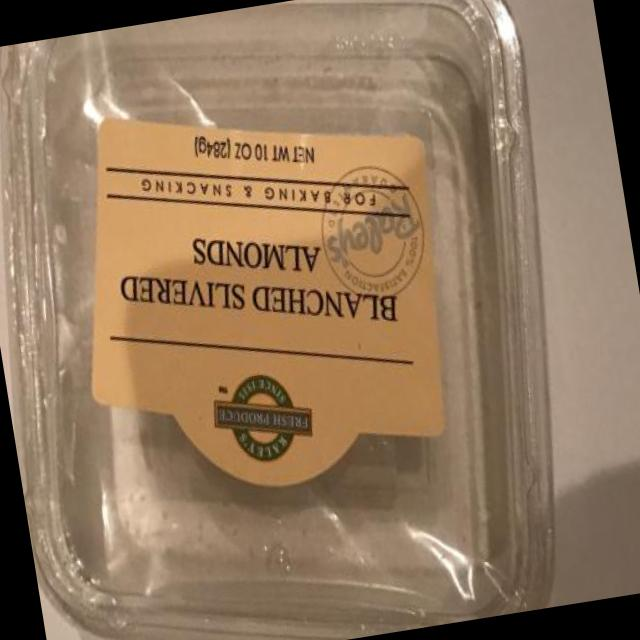Clamshell: (0, 0, 620, 640)
Label: (43, 53, 488, 528)
